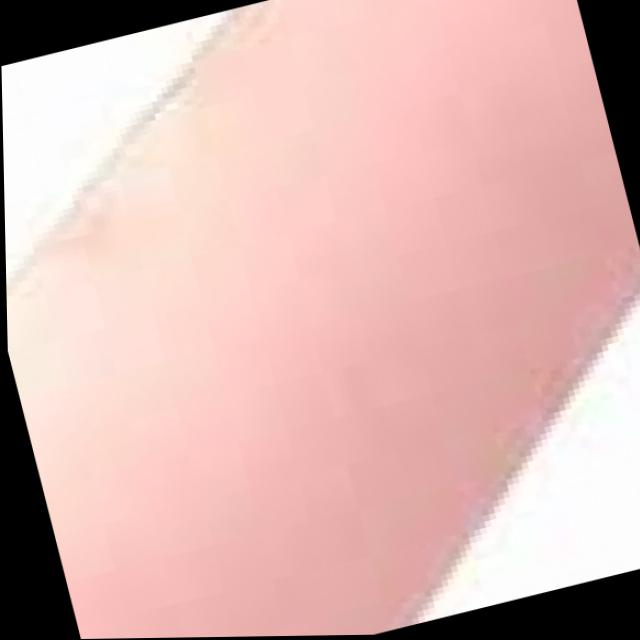metal-plates: (6, 1, 640, 640)
